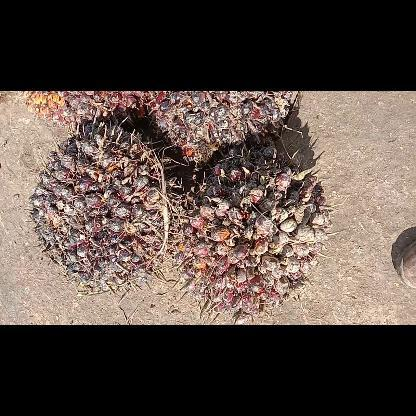Kurang masak: (172, 162, 340, 324), (28, 128, 172, 288), (143, 90, 294, 160), (19, 92, 145, 124)
